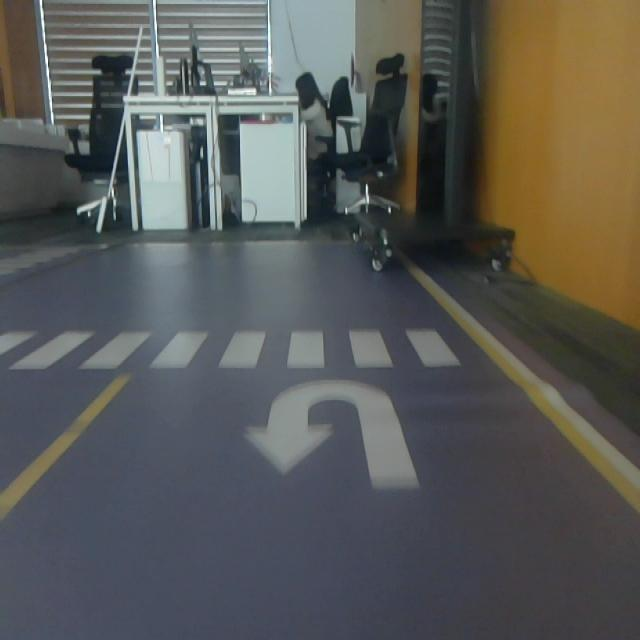left_lane: (0, 377, 131, 522)
right_lane: (396, 251, 640, 511)
